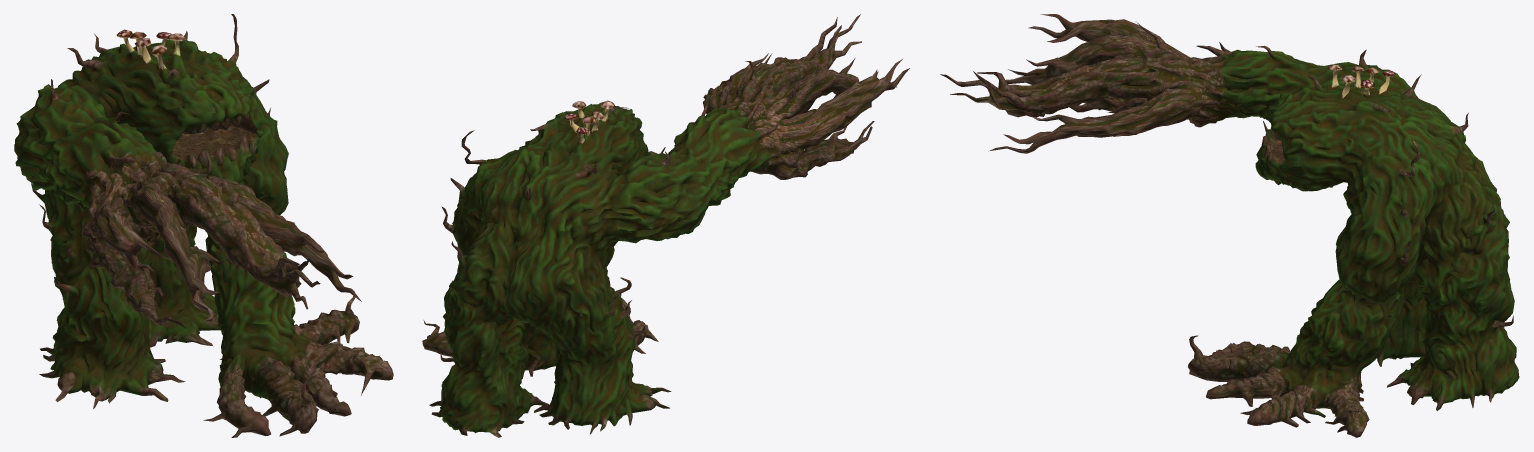
The model's file is MZ4250 - Shambling Mound.glb.
3 views of the same model, side by side, from view 1: azimuth 30°, elevation 25°; view 2: azimuth 150°, elevation 25°; view 3: azimuth 270°, elevation 25° (orthographic). The views are drawn at different scales.
Visible parts, largest first — view 1: Torso.001; view 2: Torso.001; view 3: Torso.001.
Part boxes in pixels (x1,y1,x2,y2): Torso.001: (14,14,393,437); Torso.001: (422,14,909,437); Torso.001: (940,14,1519,437).
Bounding box in the file's own units: 49.44 × 40.55 × 73.37.
1 material, 1 textured.
